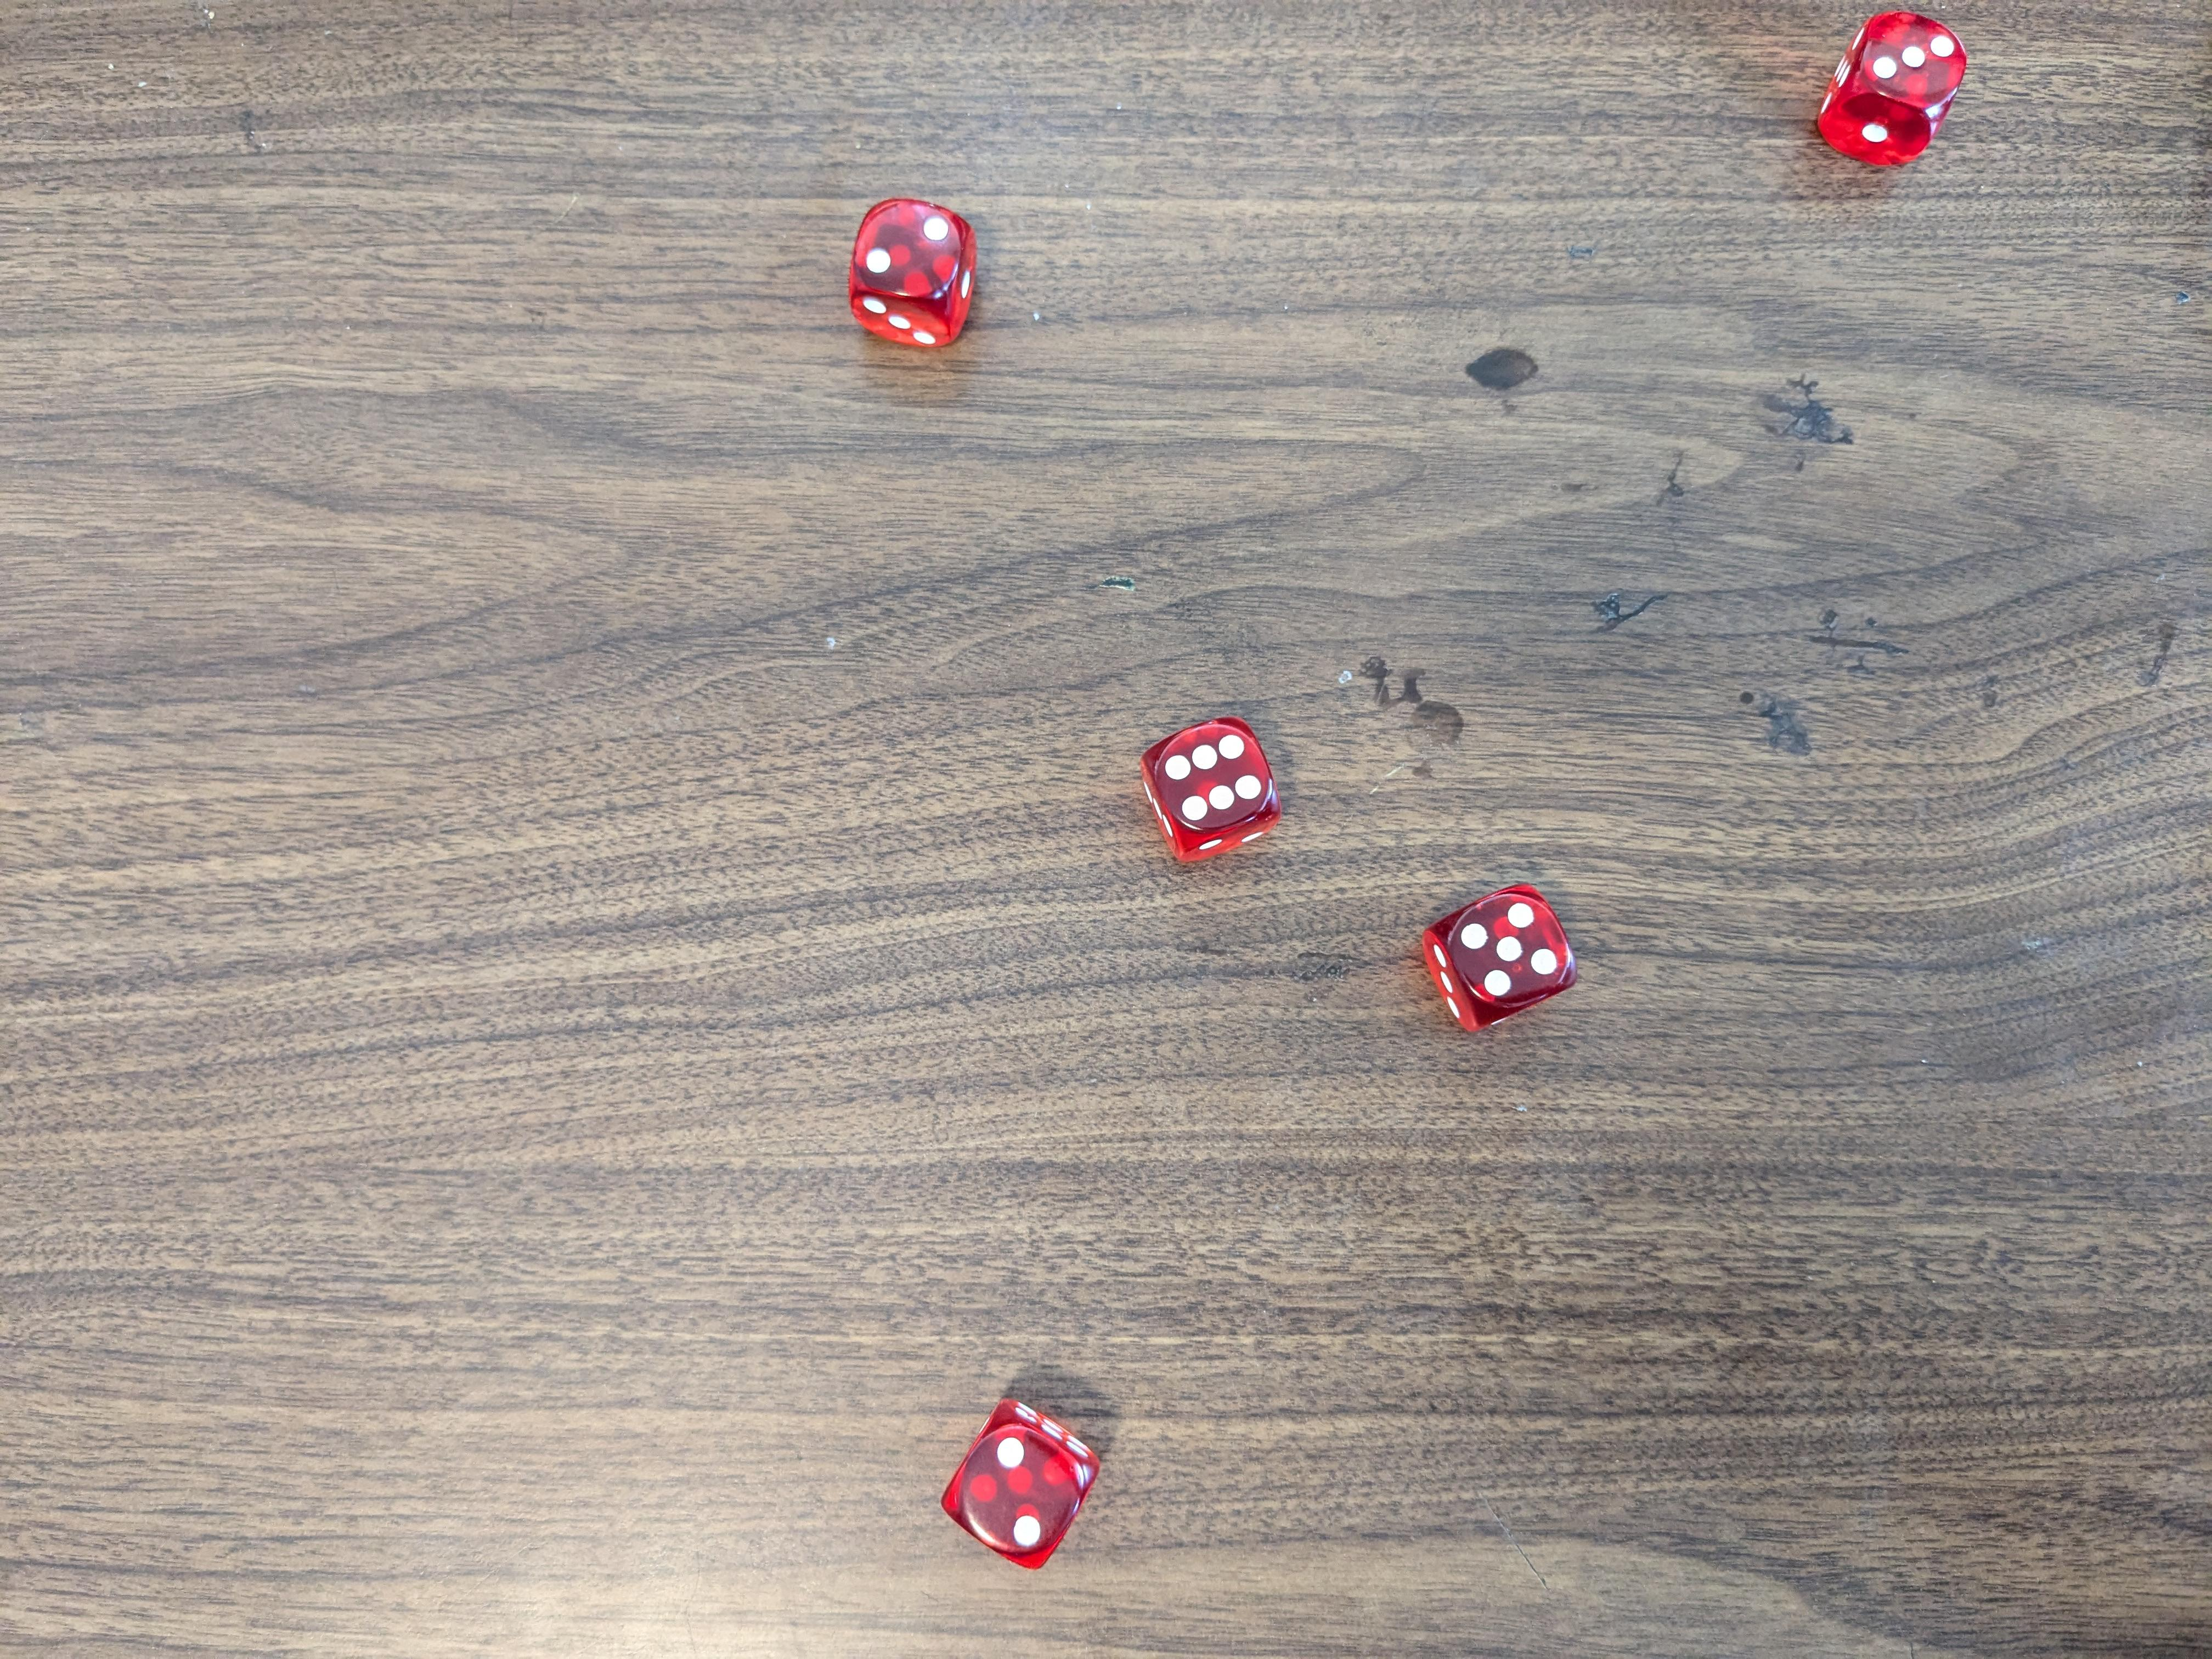five: (1420, 887, 1587, 1035)
six: (1141, 716, 1291, 866)
three: (1810, 9, 1968, 169)
two: (949, 1399, 1108, 1574), (848, 195, 979, 343)
